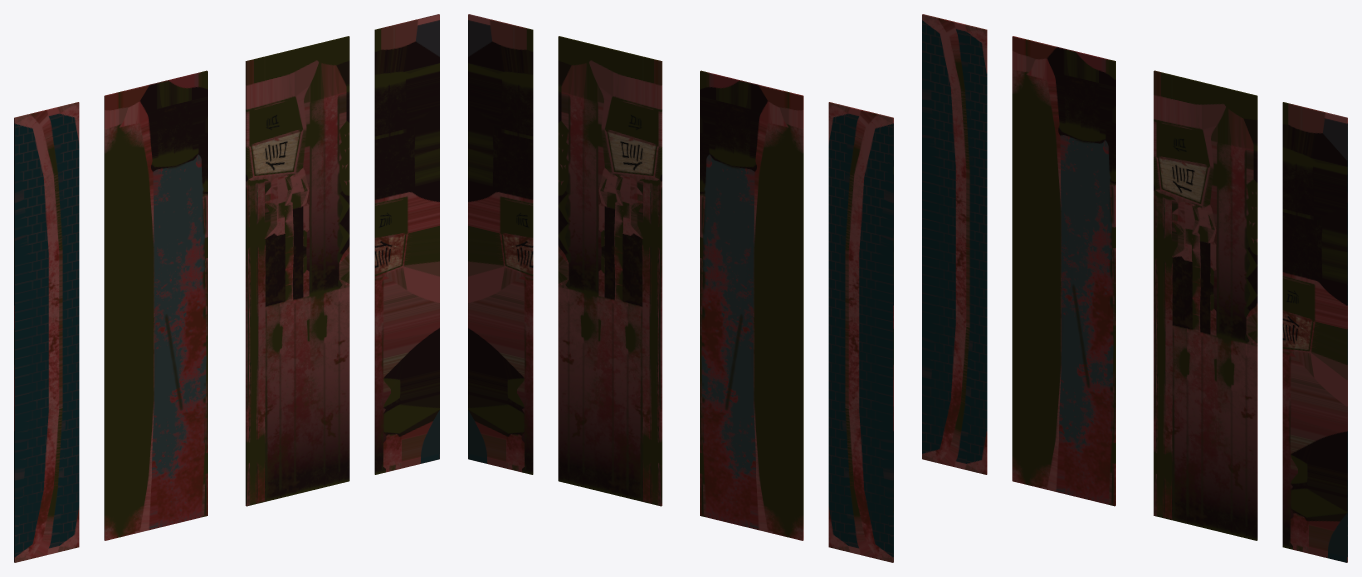
File: JANELA PORTA 3M .fbx
The picture shows the model from 3 angles, left to right: view 1: azimuth 30°, elevation 25°; view 2: azimuth 150°, elevation 25°; view 3: azimuth 330°, elevation 25°; orthographic projection.
Parts seen in each view (by area): view 1: Cube.013; view 2: Cube.013; view 3: Cube.013.
Boxes of the visible parts, box(x1,y1,x2,y2) form: Cube.013: box(14, 14, 439, 562); Cube.013: box(468, 14, 893, 562); Cube.013: box(922, 14, 1347, 562).
Bounding box in the file's own units: 283 × 283 × 1.
